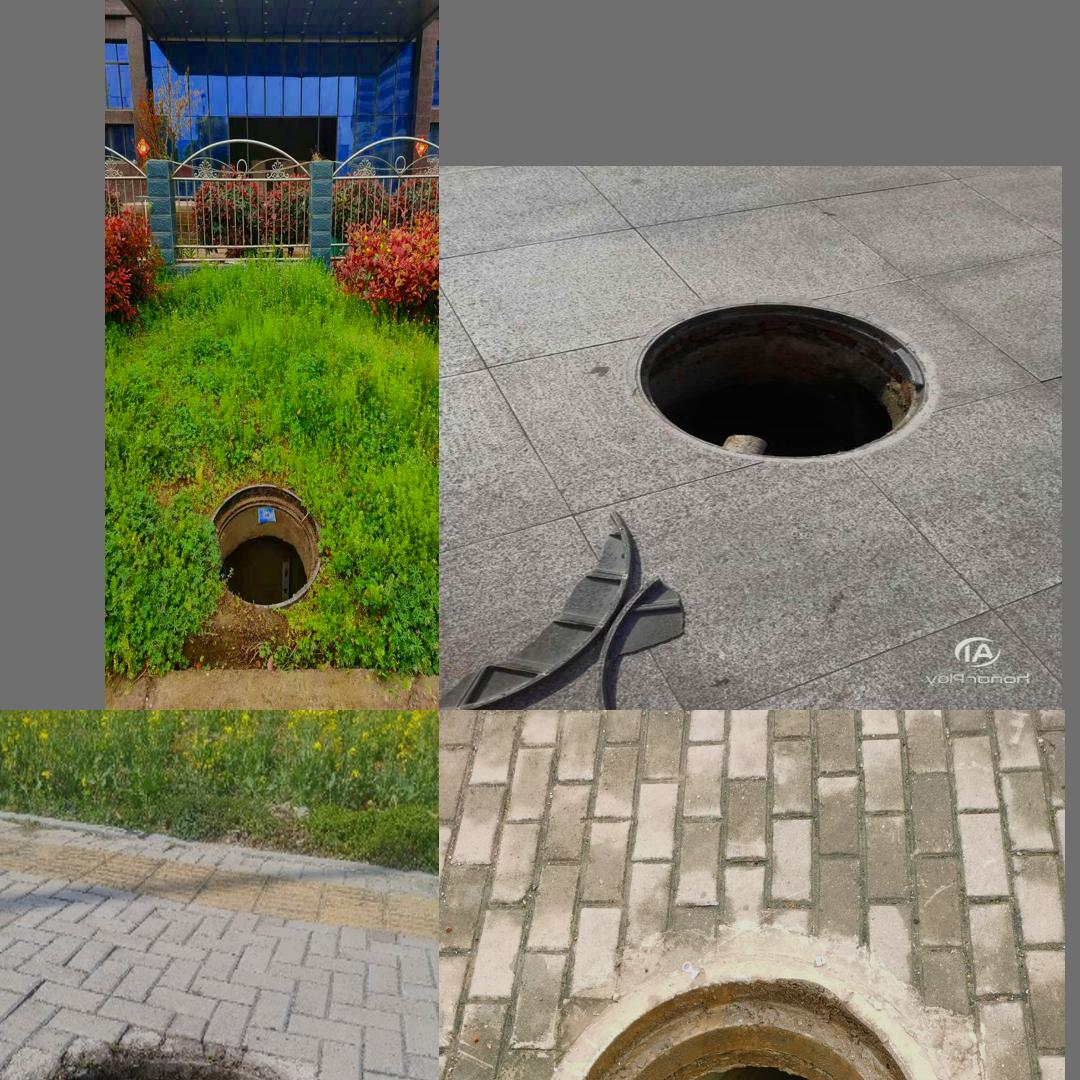lose: (607, 291, 938, 474), (515, 955, 973, 1080), (205, 481, 322, 609), (0, 1054, 392, 1080)
